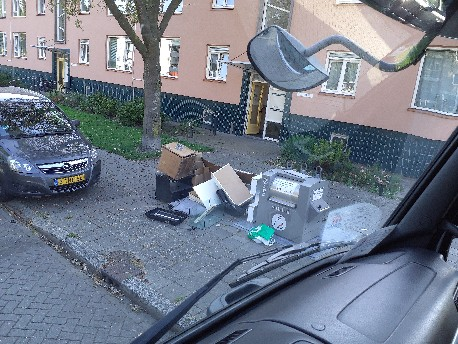Container: (264, 177, 334, 246)
Papier: (213, 168, 249, 200)
Rest: (172, 143, 221, 214)
Voertuig: (0, 85, 102, 193)
